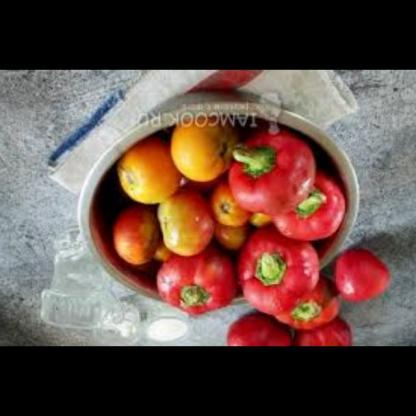bell pepper: (239, 223, 322, 318), (231, 139, 325, 218), (159, 243, 239, 319), (273, 177, 346, 244), (334, 246, 391, 304), (276, 289, 344, 335), (223, 311, 307, 347), (288, 321, 358, 347)
tomato: (149, 191, 251, 254), (160, 116, 236, 184), (116, 141, 182, 211), (108, 210, 162, 276)
